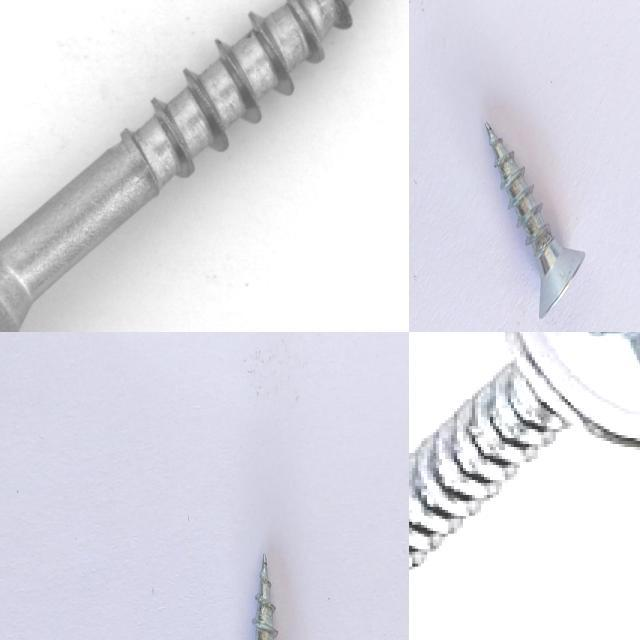Screw: (0, 0, 401, 332), (409, 332, 640, 581), (485, 121, 585, 317), (252, 553, 278, 640)
